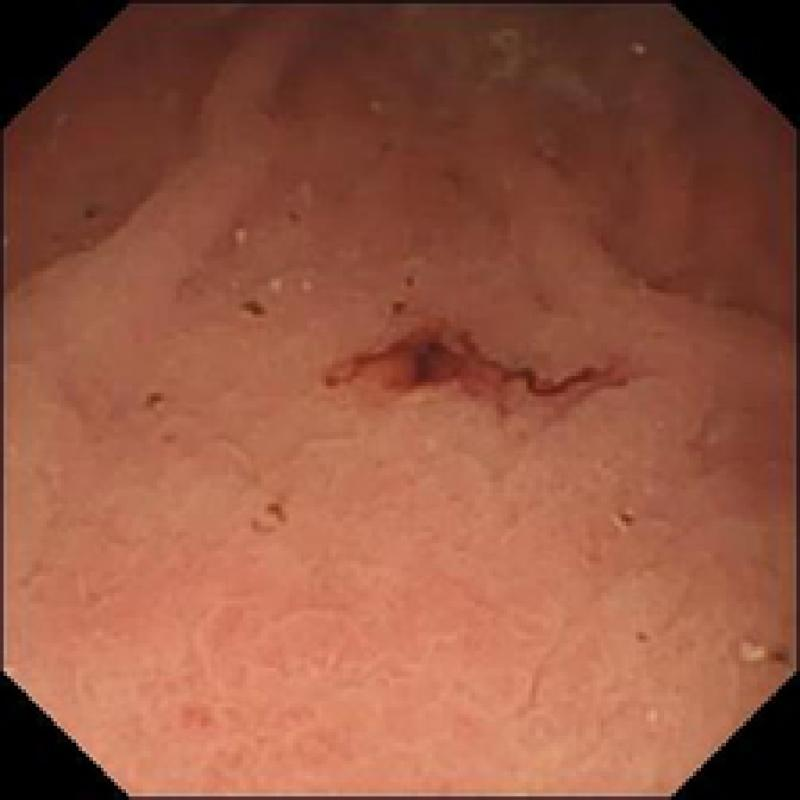bleeding: (332, 314, 622, 407)
